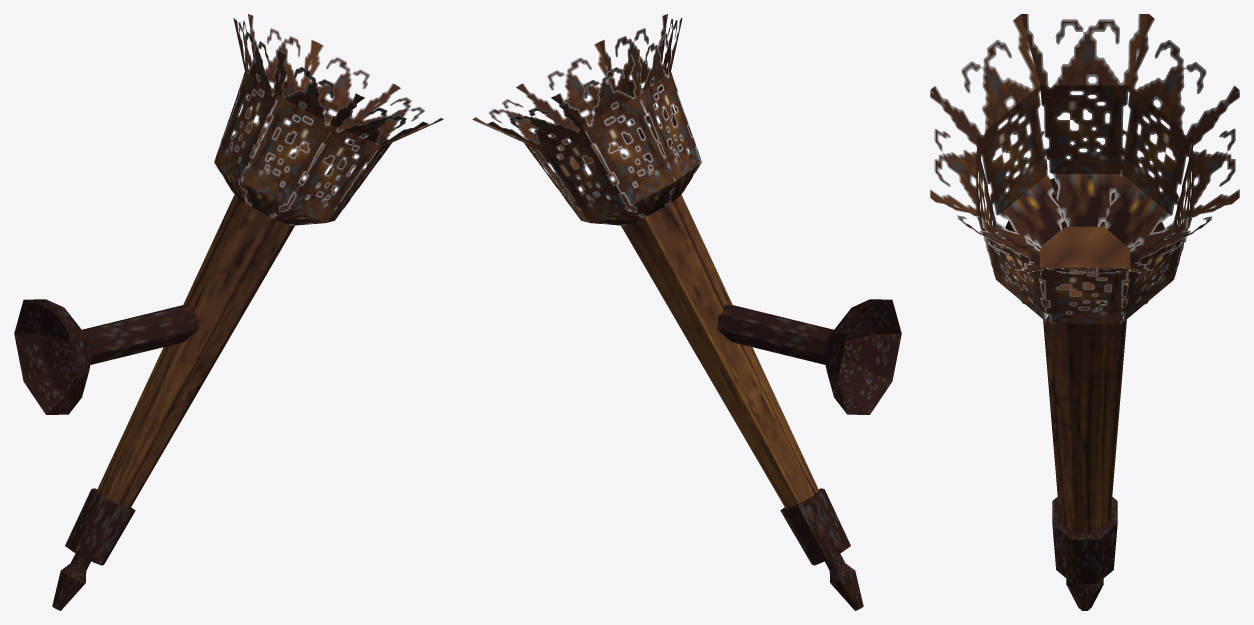
File: SM_Dungeon_Torch_Wall.fbx
The picture shows the model from 3 angles, left to right: view 1: azimuth 30°, elevation 25°; view 2: azimuth 150°, elevation 25°; view 3: azimuth 270°, elevation 25°; orthographic projection. The views are drawn at different scales.
Parts seen in each view (by area): view 1: SM_Dungeon_Torch_Wall; view 2: SM_Dungeon_Torch_Wall; view 3: SM_Dungeon_Torch_Wall.
Boxes of the visible parts, x1,y1,x2,y2 form: SM_Dungeon_Torch_Wall: (14,14,443,610); SM_Dungeon_Torch_Wall: (472,14,901,610); SM_Dungeon_Torch_Wall: (930,14,1239,610).
Bounding box in the file's own units: 48.52 × 65.25 × 25.08.
